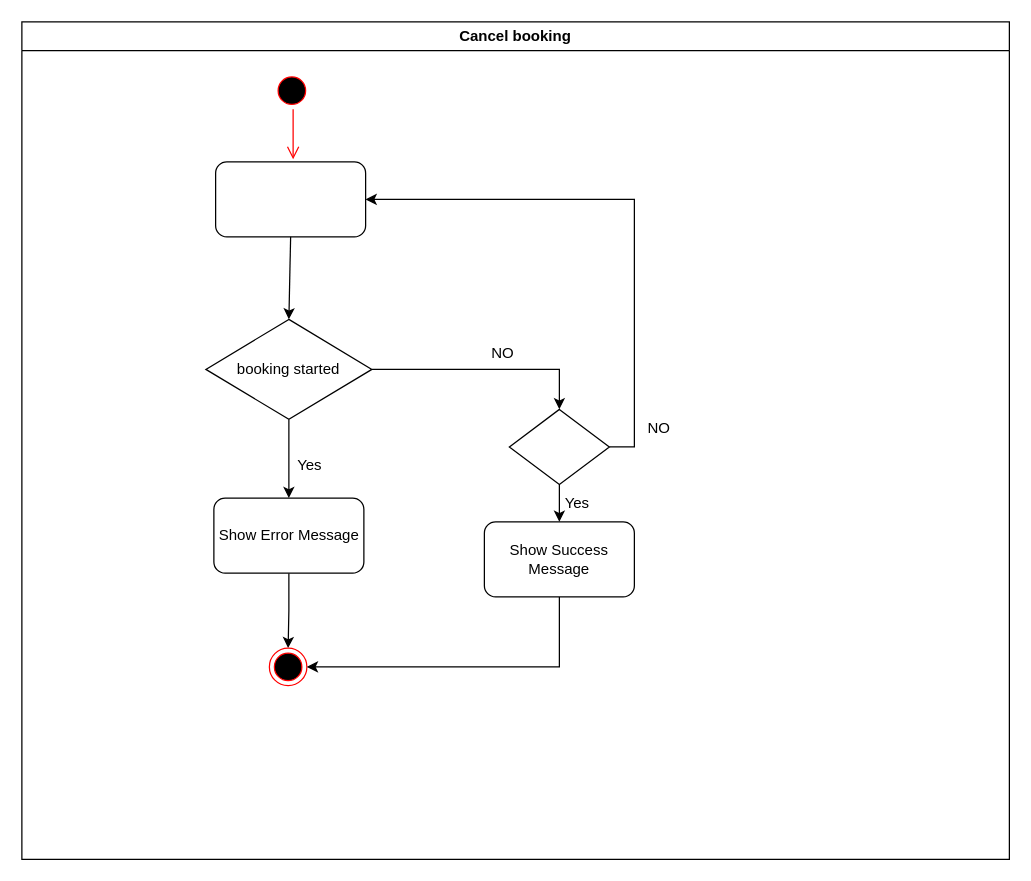
The diagram is 1031 pixels wide and 881 high, and some of its shapes have lost their labels. Here are the shapes that lost their labels. From the top down, the centre of each, then its label:
At [290,199]: "Enter Cancel booking".
At [558,446]: "Confirmation".
